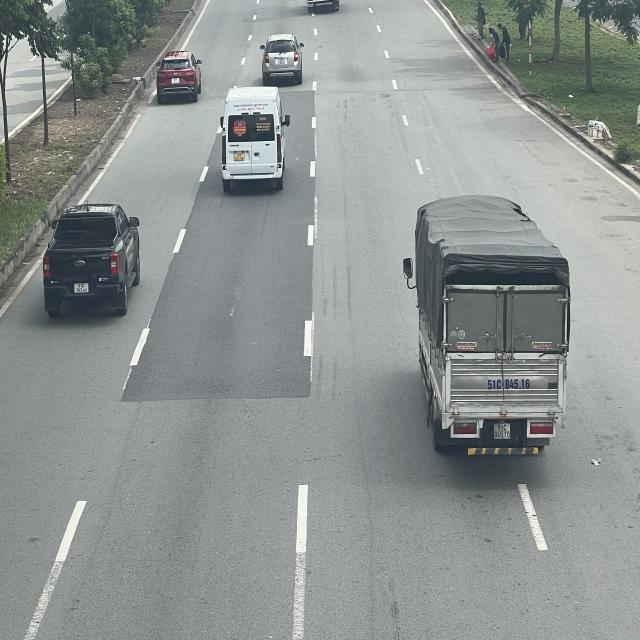car: (41, 203, 140, 314), (154, 50, 202, 101), (260, 32, 305, 83)
truck: (402, 194, 572, 461)
van: (220, 86, 289, 187)
